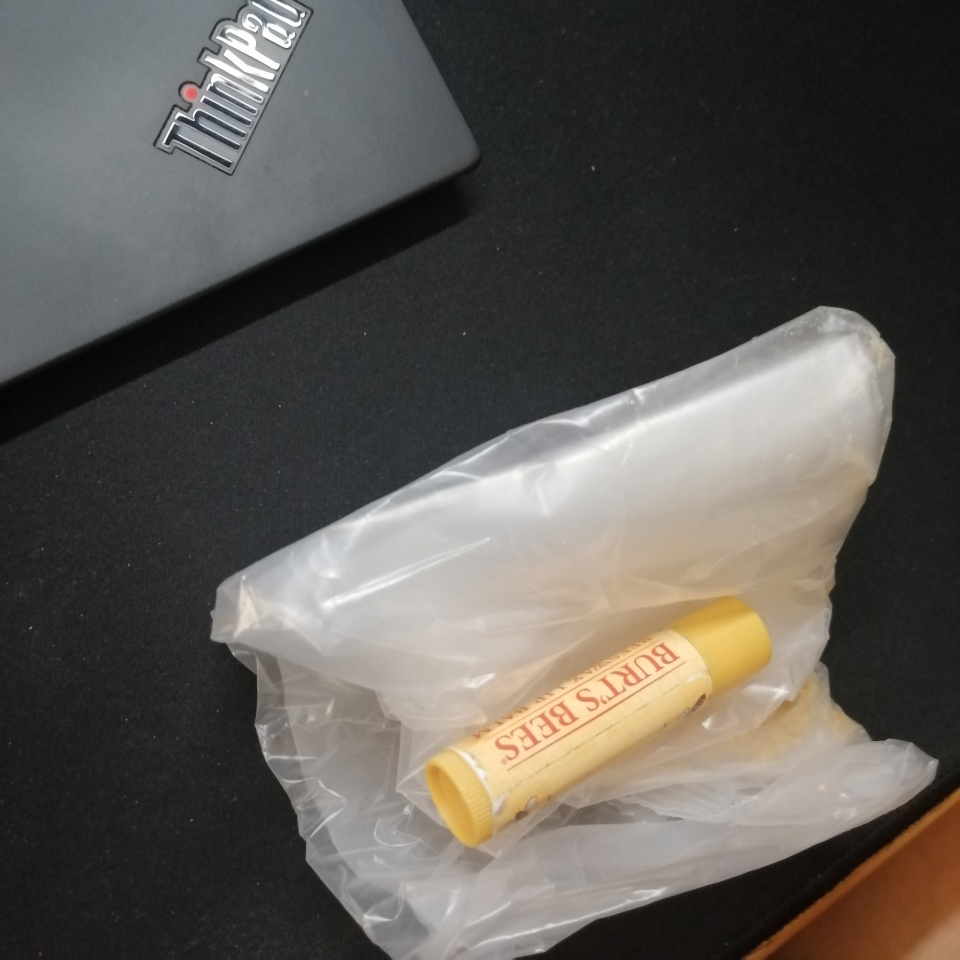chapstick: (423, 593, 772, 850)
